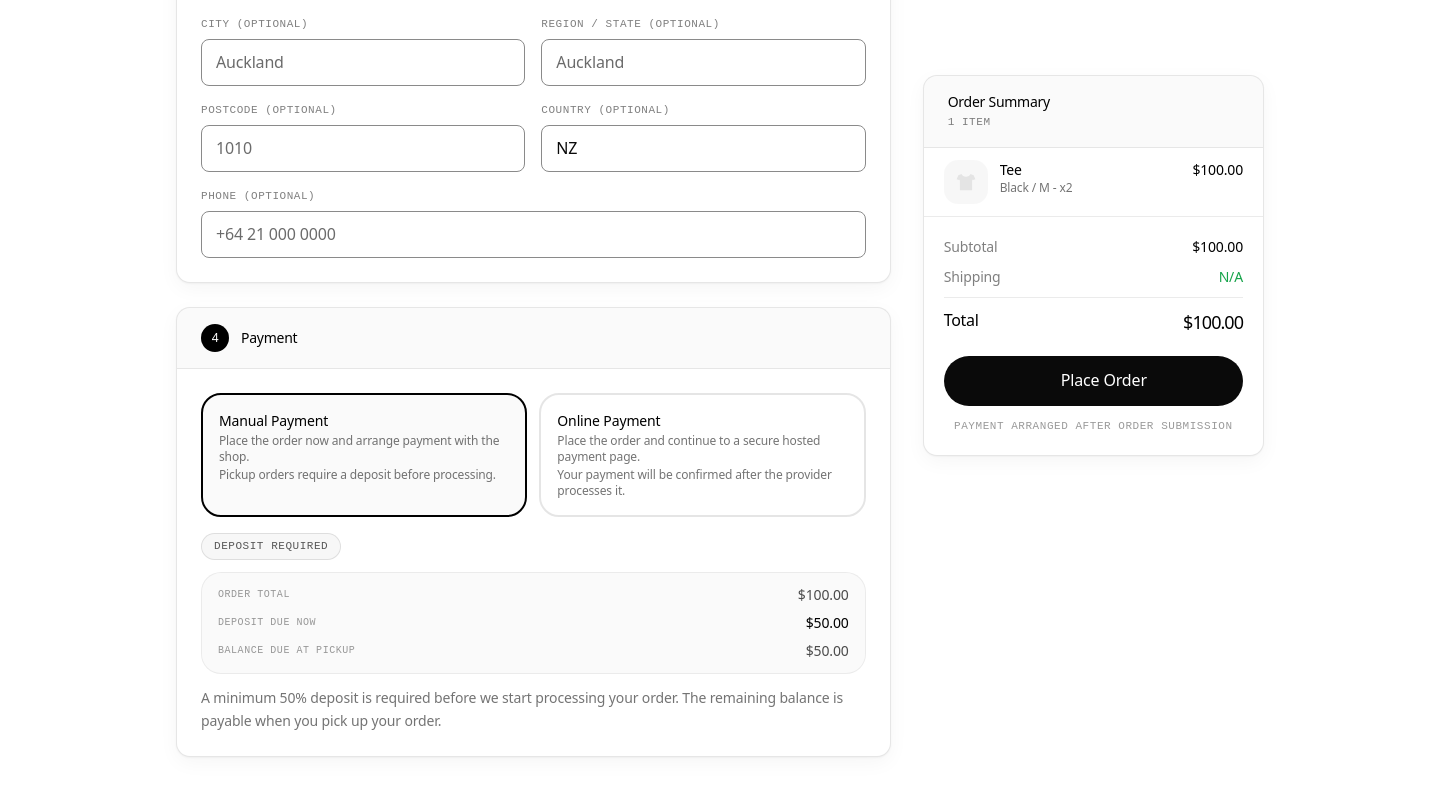
checkout page — quote fetching › displays the canonical breakdown and disclosure
The width and height of the screenshot is (1440, 789).
(page scrolled)
What coordinates should you click on to do the following:
click the radio button labelled "Online Payment"
I would click on:
 (609, 420)
Its box is [539,393,866,517].
(page scrolled)
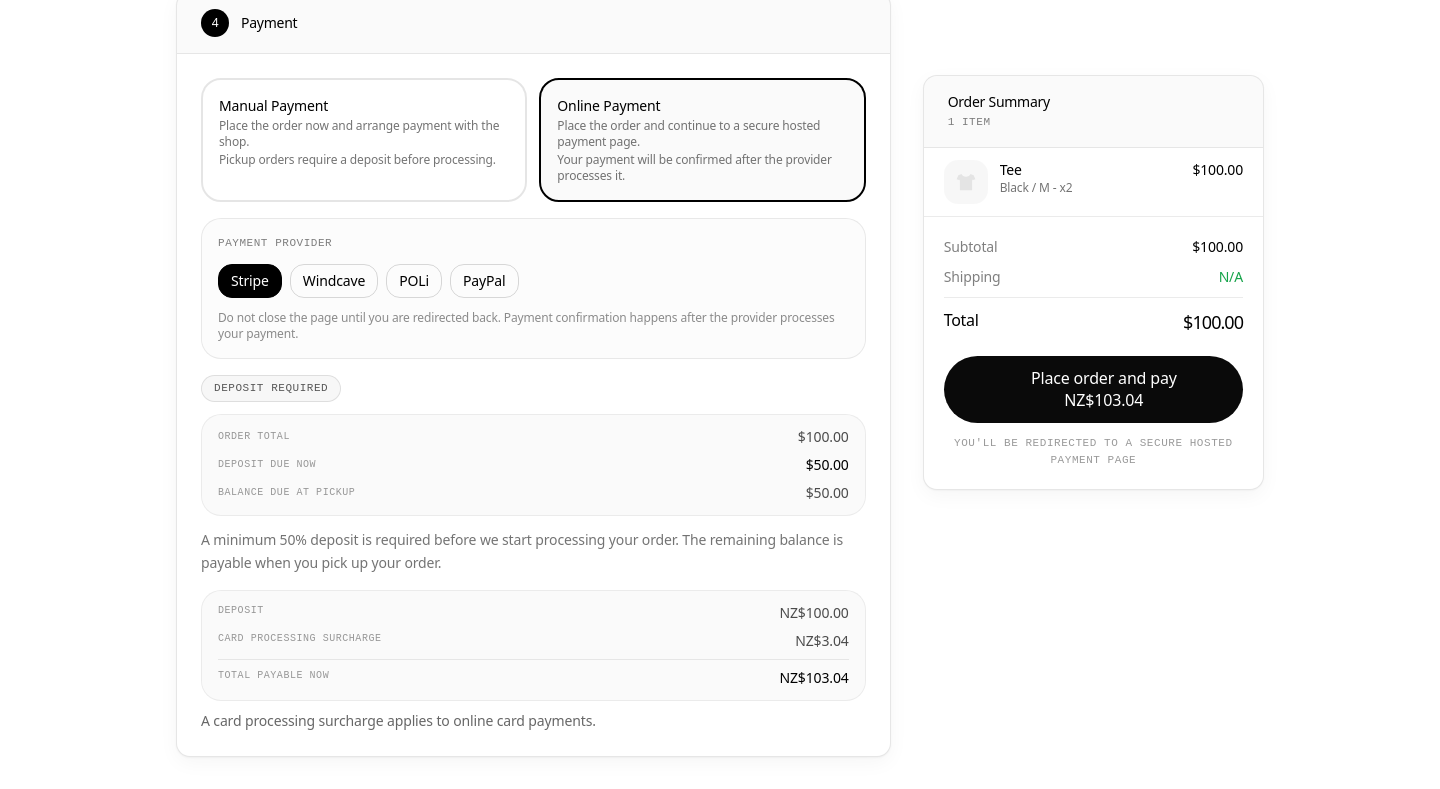
Expected: the text "Card processing surcharge" is shown, [218,631,382,647]
Expected: the text "NZ$100.00" is shown, [780,603,849,623]
Expected: the text "NZ$3.04" is shown, [795,631,849,651]
